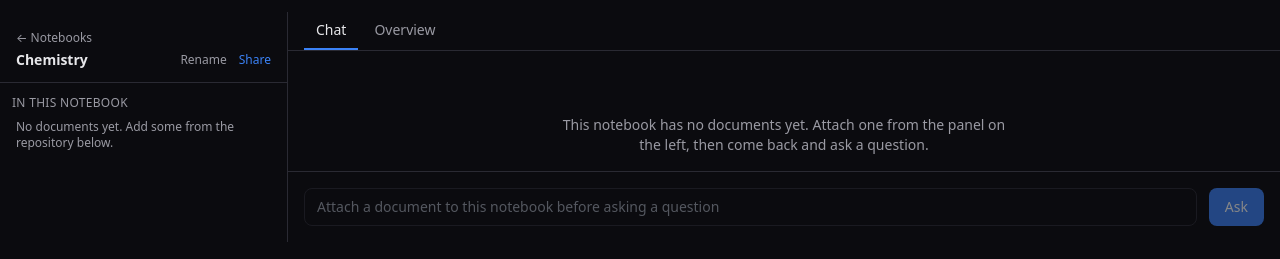
Test: NotebookPage › defaults to the Chat tab and switches to Overview on click
Expected: the heading "Chemistry" is shown, [16,50,88,70]
Expected: the text "This notebook has no documents yet" is shown, [563,115,1005,154]
Click the button "Overview" at (405,31), box [362,12,448,50]
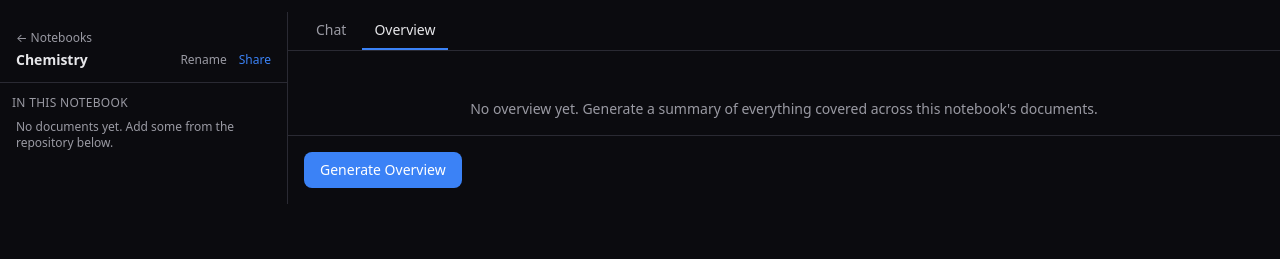
Expected: the text "No overview yet" is shown, [470,99,1098,118]
